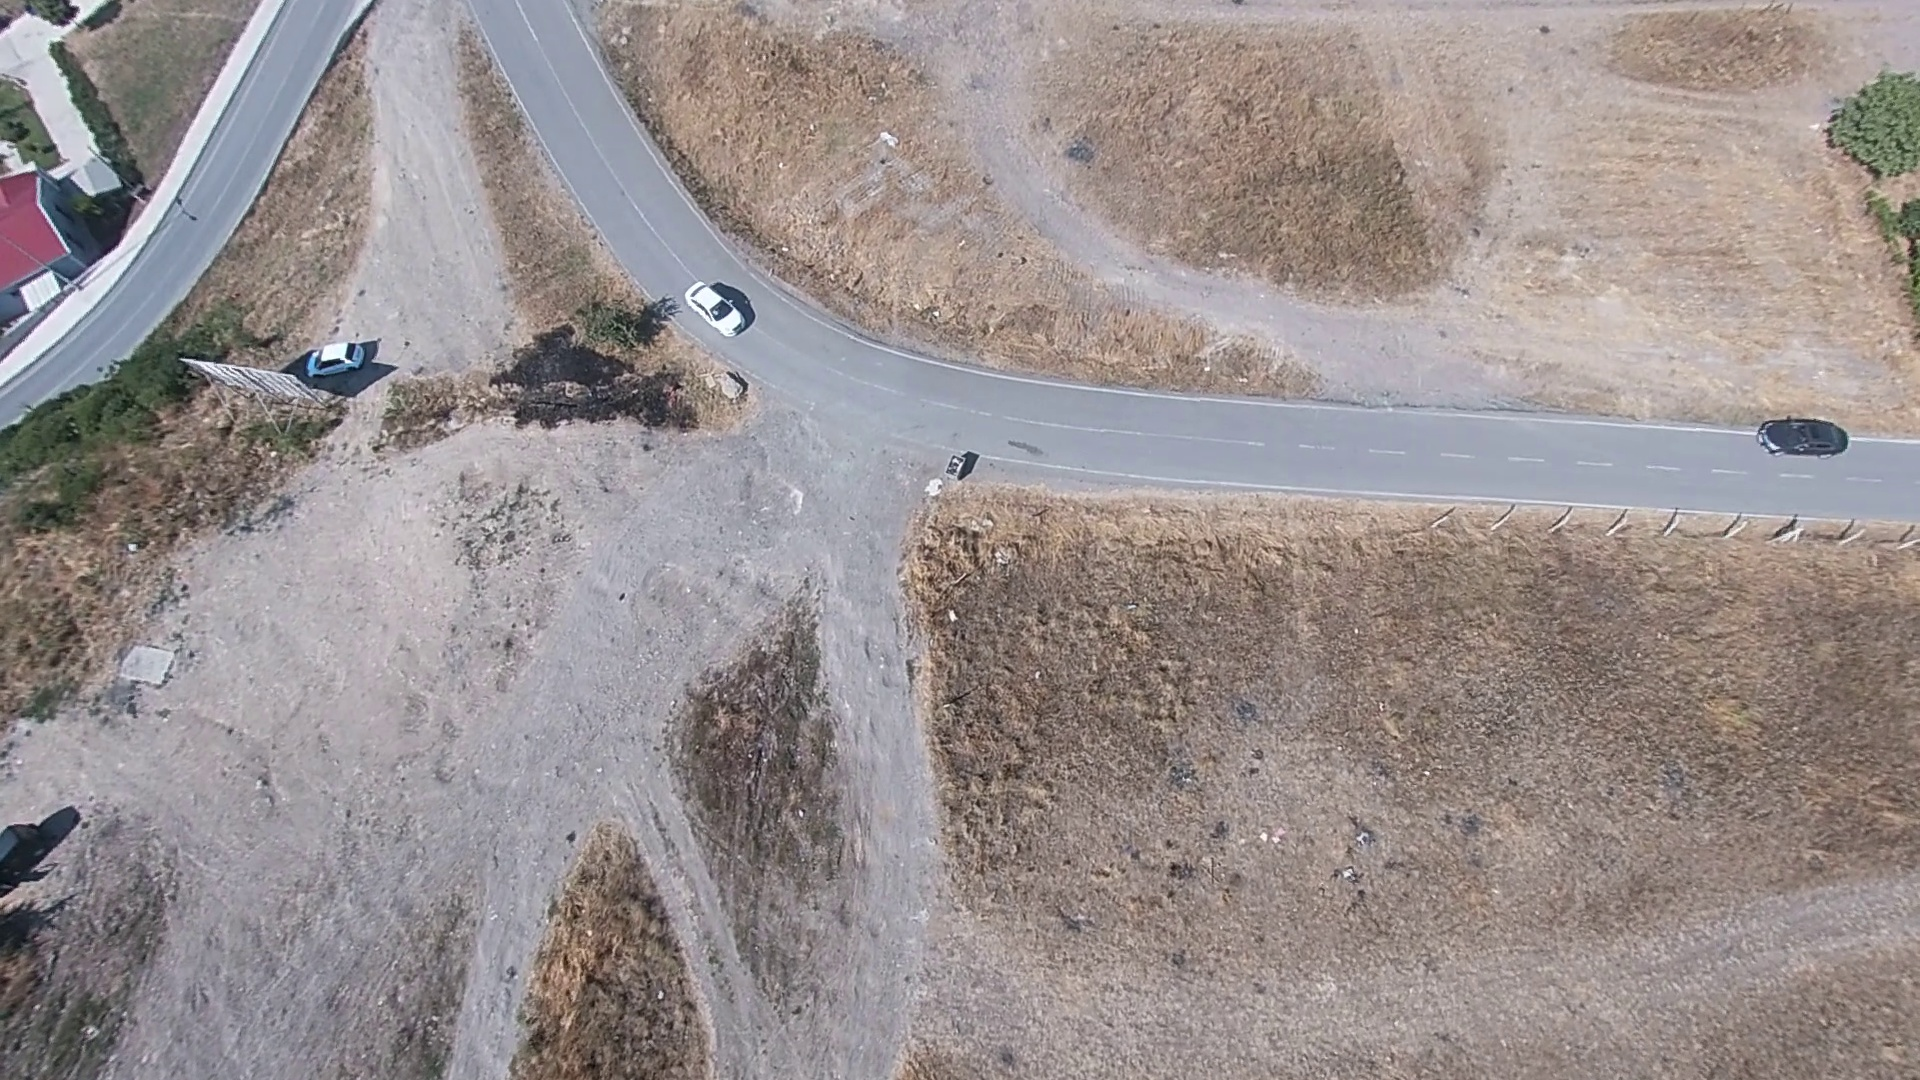araba: (1758, 413, 1855, 458), (683, 276, 753, 334), (299, 331, 382, 378)
